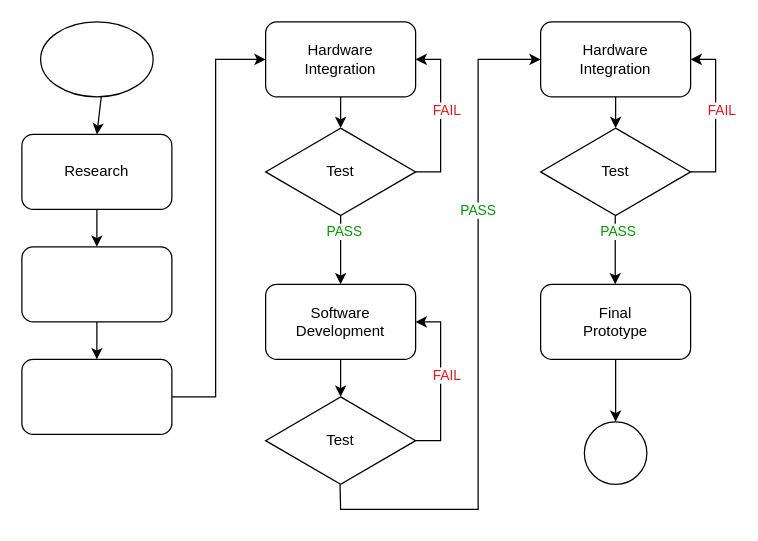
Some shapes in this 758 by 541 pixel diagram are drawn without their labels. The box of each missing label's shape, as (x1, y1, x2, y2) in pixels:
End: (583, 421, 647, 484)
Hardware Procurement: (21, 358, 172, 434)
Initial Design: (21, 246, 172, 322)
Start: (39, 21, 153, 97)
